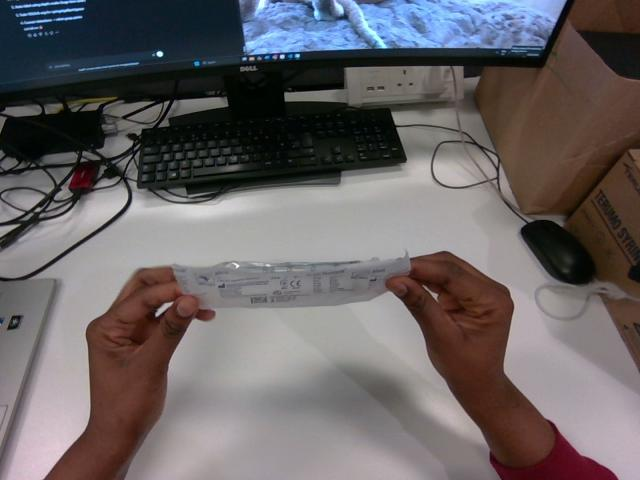syringe: (173, 253, 409, 308)
